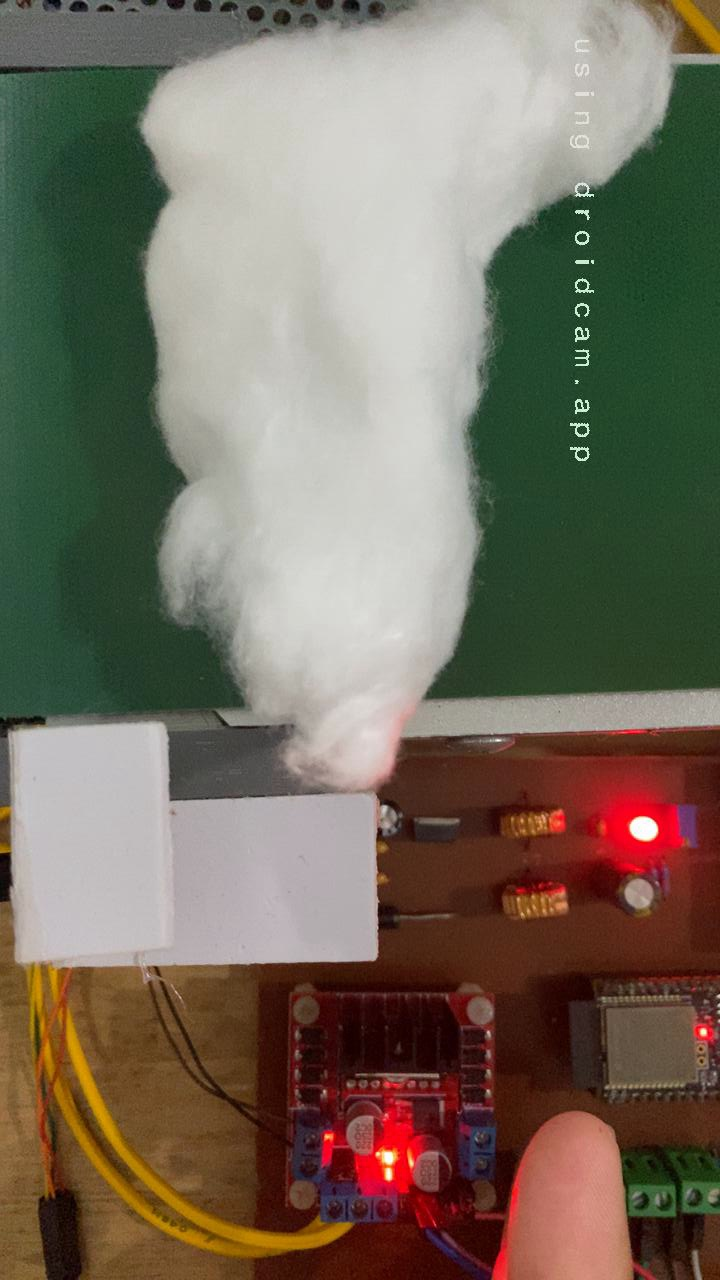cotton: (137, 168, 627, 695)
